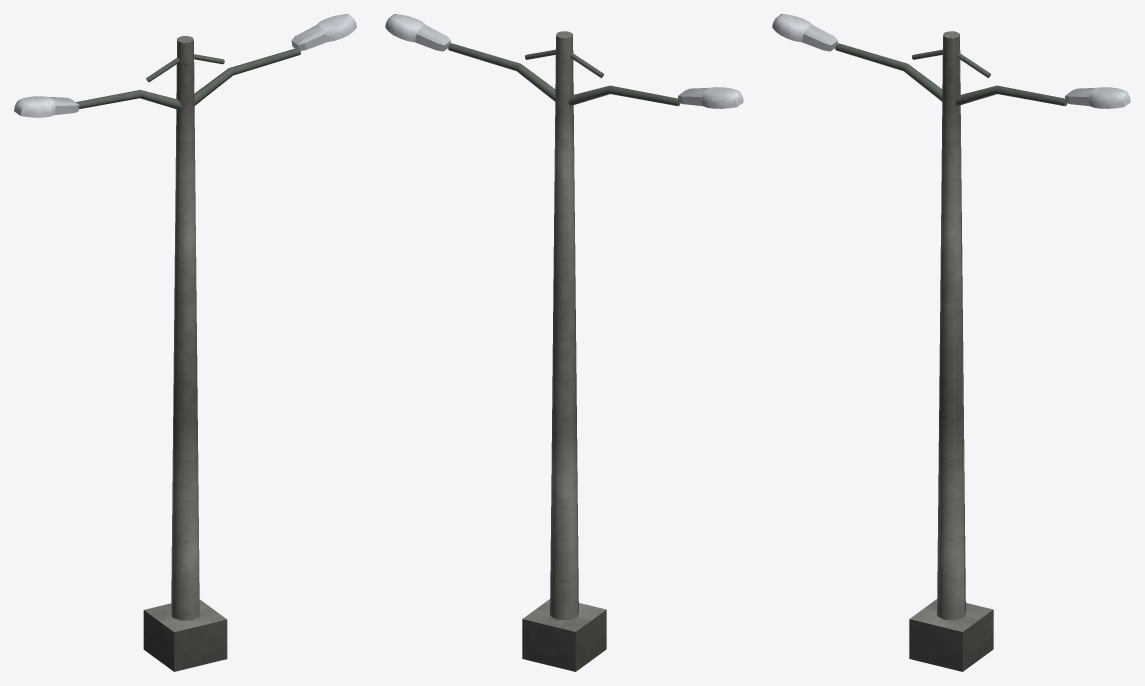
The model's file is lamp_post.obj.
The picture shows the model from 3 angles, left to right: view 1: azimuth 30°, elevation 25°; view 2: azimuth 150°, elevation 25°; view 3: azimuth 330°, elevation 25°; orthographic projection.
Parts seen in each view (by area): view 1: Pole_Concrete, Base_ConcreteDark, Luminaire_material, Arm_Steel, Base_Concrete; view 2: Pole_Concrete, Base_ConcreteDark, Luminaire_material, Arm_Steel, Base_Concrete; view 3: Pole_Concrete, Base_ConcreteDark, Luminaire_material, Arm_Steel, Base_Concrete.
Boxes of the visible parts, <box> form: Pole_Concrete: <box>171,36,199,620</box>; Base_ConcreteDark: <box>143,610,227,671</box>; Luminaire_material: <box>14,14,356,117</box>; Arm_Steel: <box>76,48,300,109</box>; Base_Concrete: <box>144,599,226,632</box>; Pole_Concrete: <box>550,31,578,620</box>; Base_ConcreteDark: <box>522,610,606,671</box>; Luminaire_material: <box>385,14,743,108</box>; Arm_Steel: <box>448,43,680,106</box>; Base_Concrete: <box>523,599,606,631</box>; Pole_Concrete: <box>937,31,965,620</box>; Base_ConcreteDark: <box>909,610,993,671</box>; Luminaire_material: <box>772,14,1130,108</box>; Arm_Steel: <box>835,43,1067,106</box>; Base_Concrete: <box>910,599,993,631</box>.
Size of the model in its own units: 4.53 by 7.76 by 0.7.
4 materials, 4 textured.
